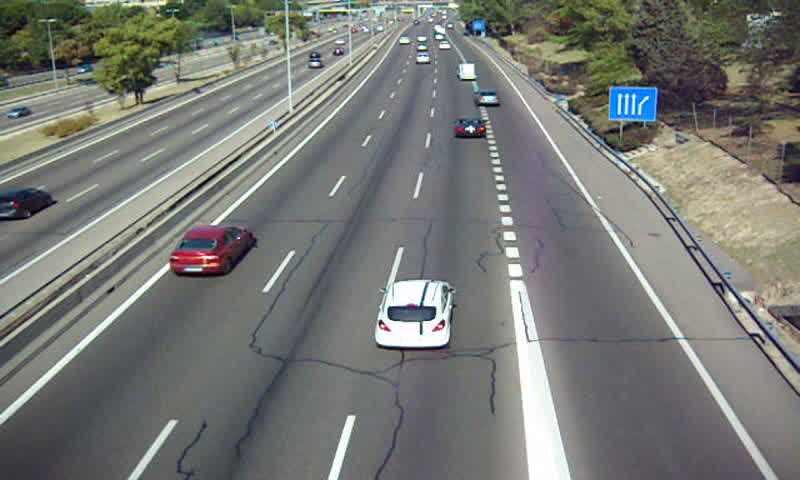car: (375, 280, 454, 347), (169, 226, 252, 276), (453, 116, 487, 140), (476, 91, 500, 106)
van: (458, 62, 476, 80)
